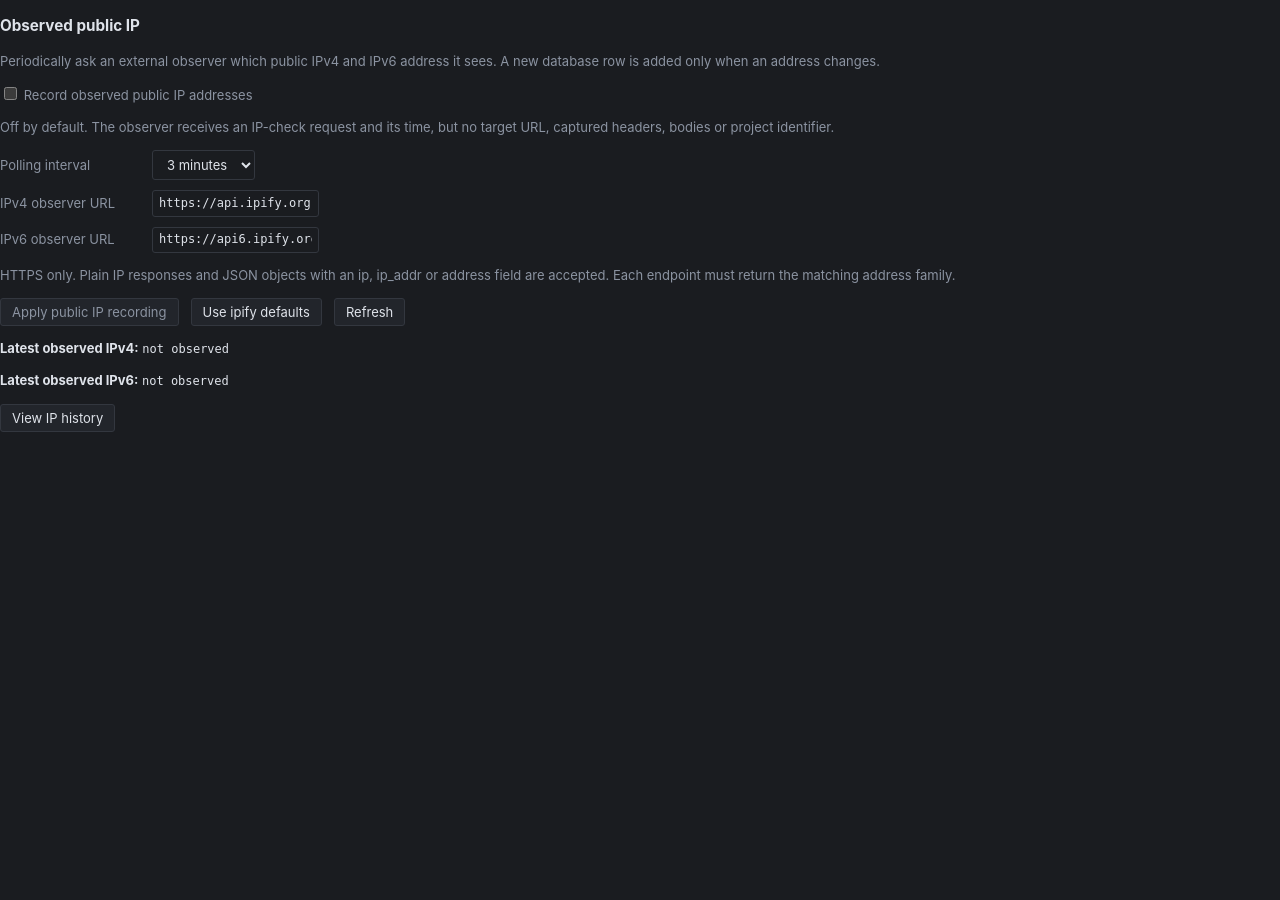
Test: loads public IP history into a modal
This screenshot has width=1280, height=900.
Click the button "View IP history": (58, 418) [0, 404, 115, 432]
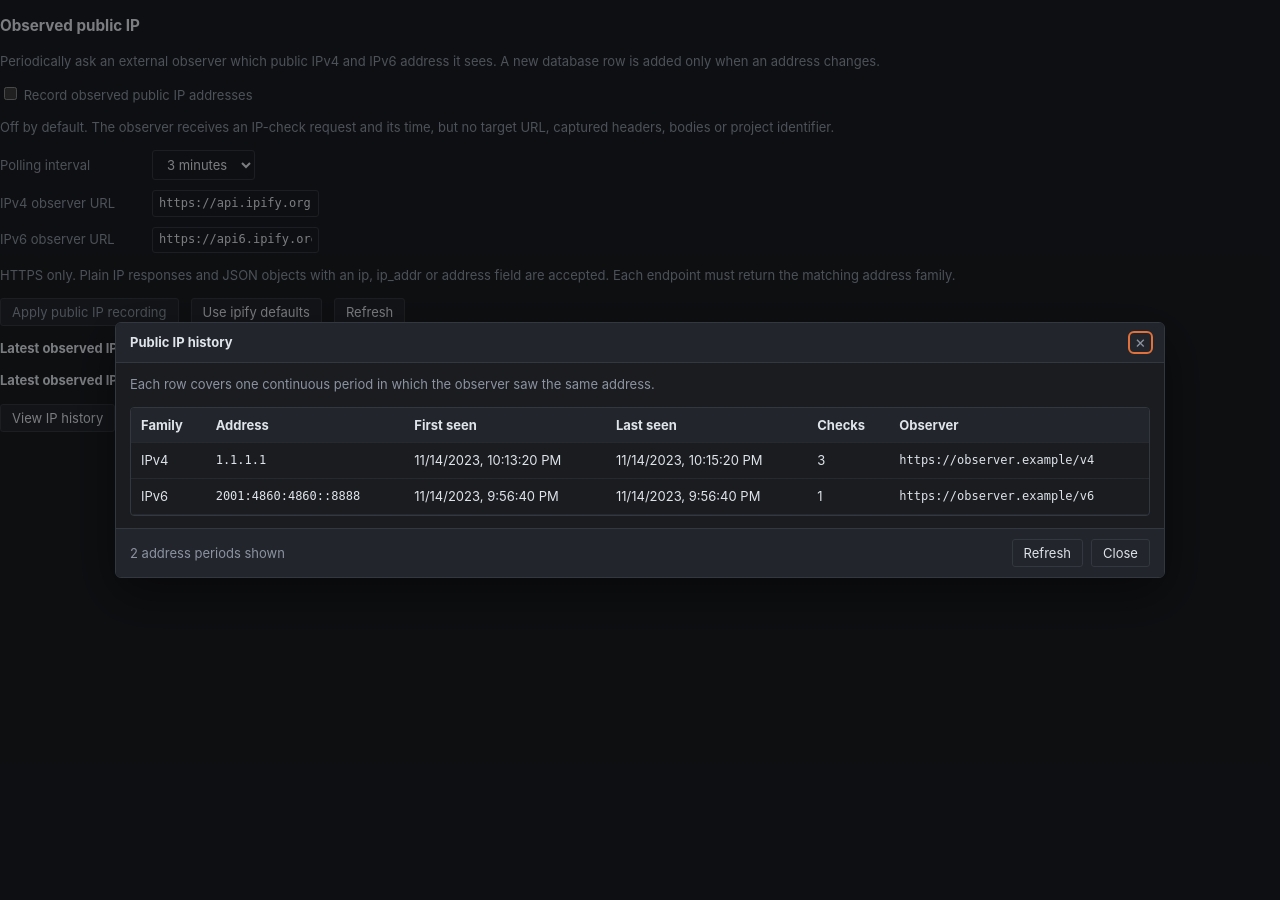
Result: the dialog "Public IP history" shows "1.1.1.1" at [216, 453, 266, 467]
Result: the dialog "Public IP history" shows "2001:4860:4860::8888" at [216, 489, 360, 503]
Result: the dialog "Public IP history" shows "https://observer.example/v4" at [899, 453, 1094, 467]
